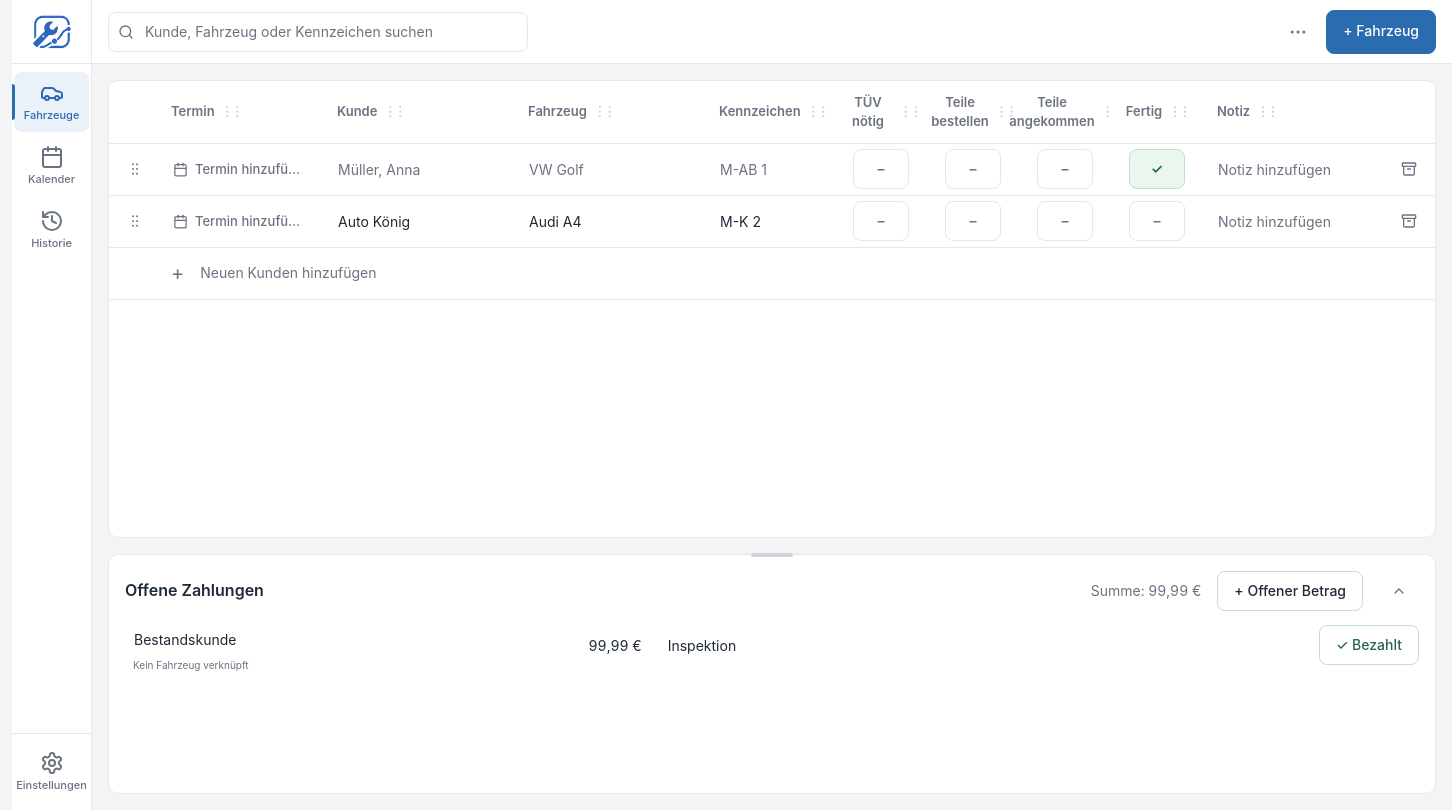
Test case: Kunden-Autocomplete › lädt Vorschläge einmal, filtert Umlaute lokal und übernimmt per Maus nur den Namen mit Fokus auf Betrag
Expected: the 1st field showing "Müller, Anna" is shown, [329,149,508,189]
Click the button "+ Offener Betrag". click: (1290, 591)
box: [1217,571,1363,611]
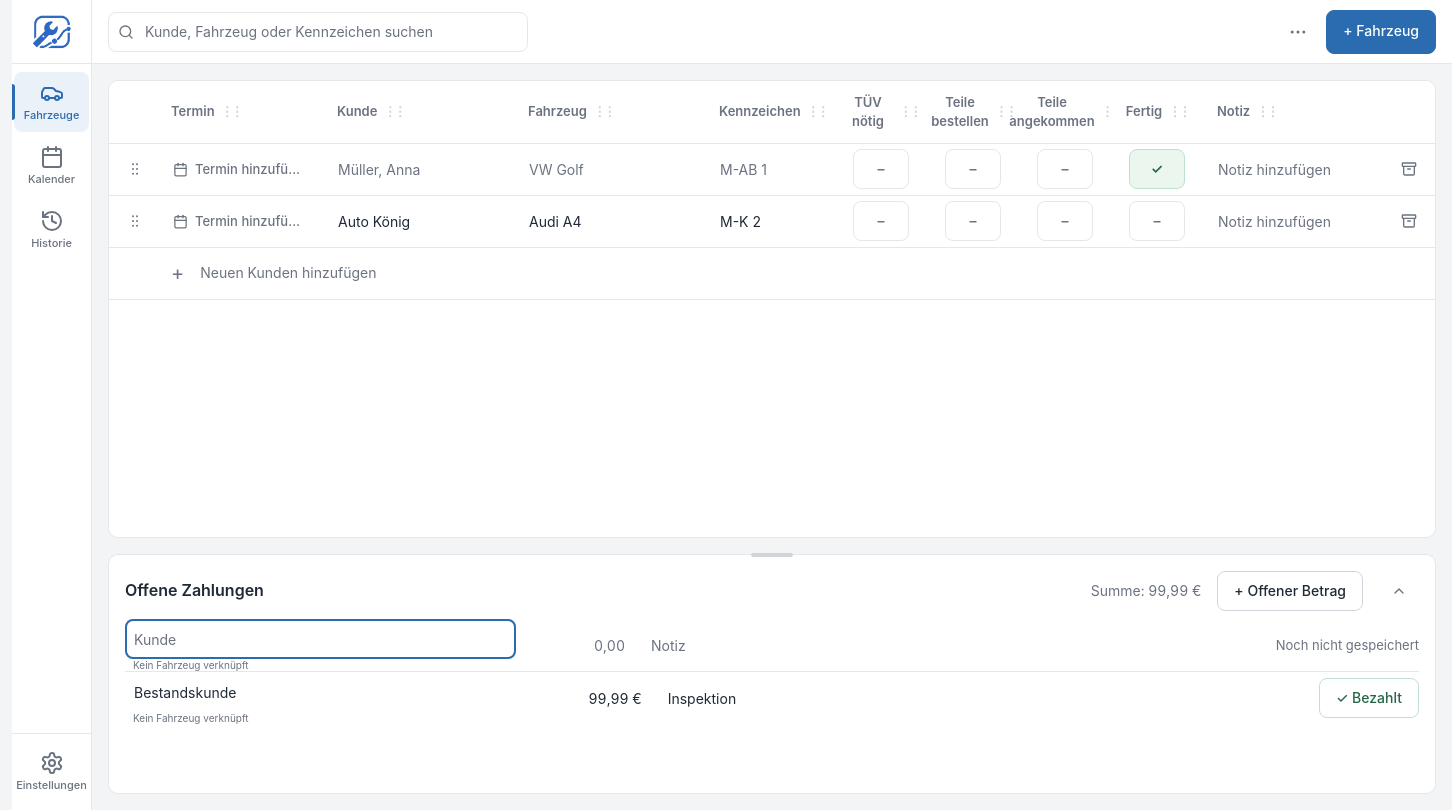
Type "mü" into the dropdown named "Kunde (Neue Zahlung)". click: (320, 639)
box: [125,619,516,659]
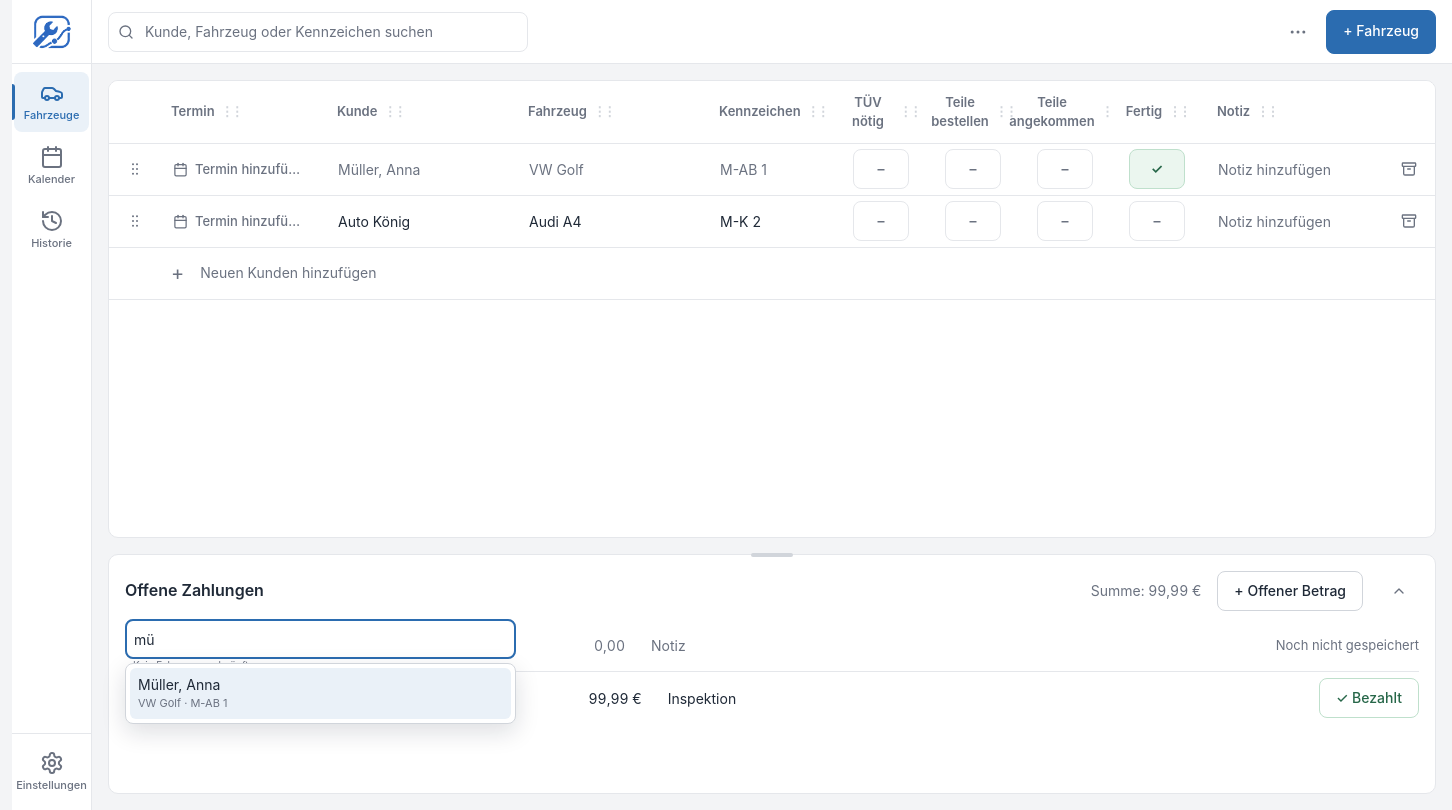
Expected: the option "Müller, Anna VW Golf · M-AB 1" is shown
Click the option "Müller, Anna VW Golf · M-AB 1". click: (179, 684)
box: [130,668,511,719]
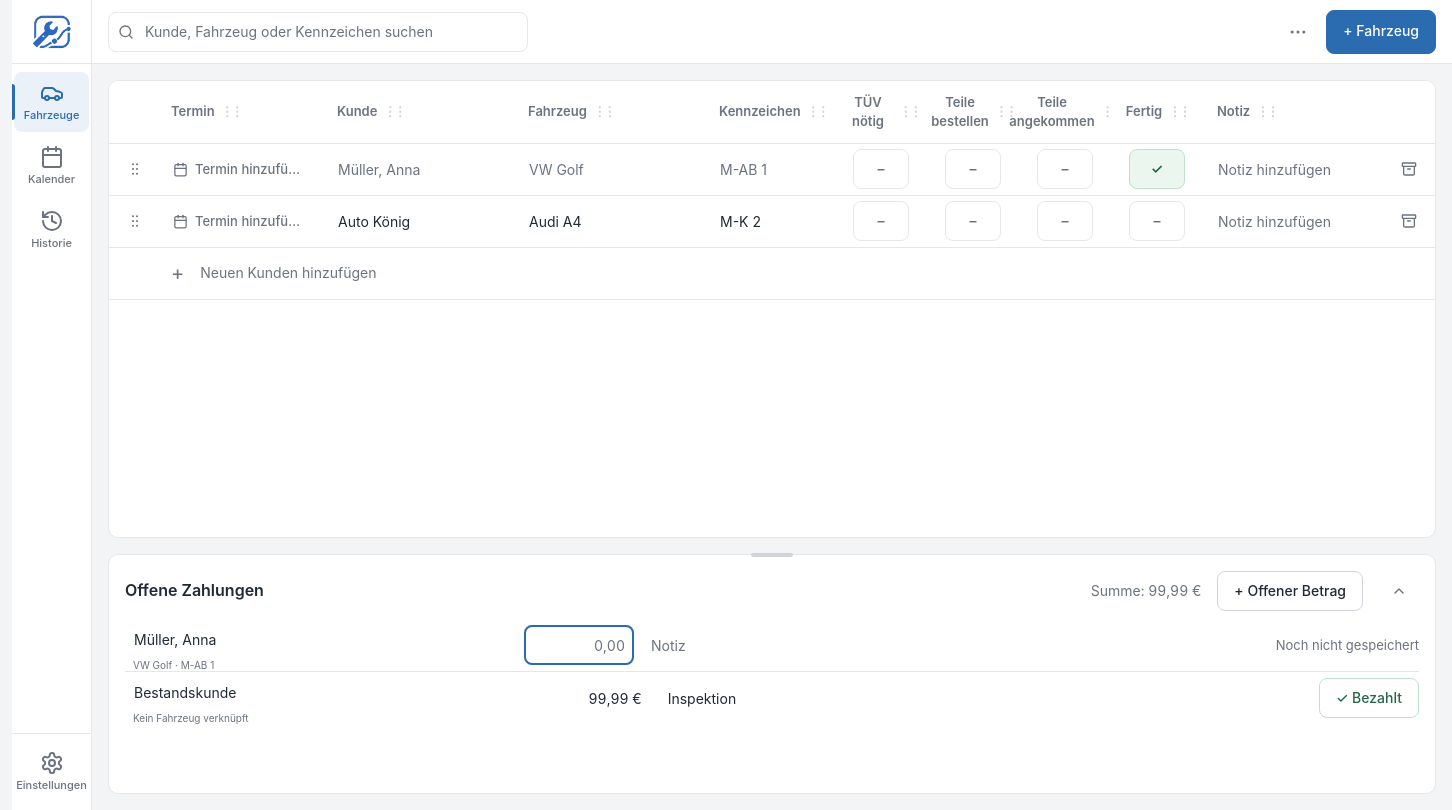
Expected: the dropdown named "Kunde (Neue Zahlung)" holds "Müller, Anna", [125,619,516,659]
Expected: the text "VW Golf · M-AB 1" is shown, [133,659,214,671]
